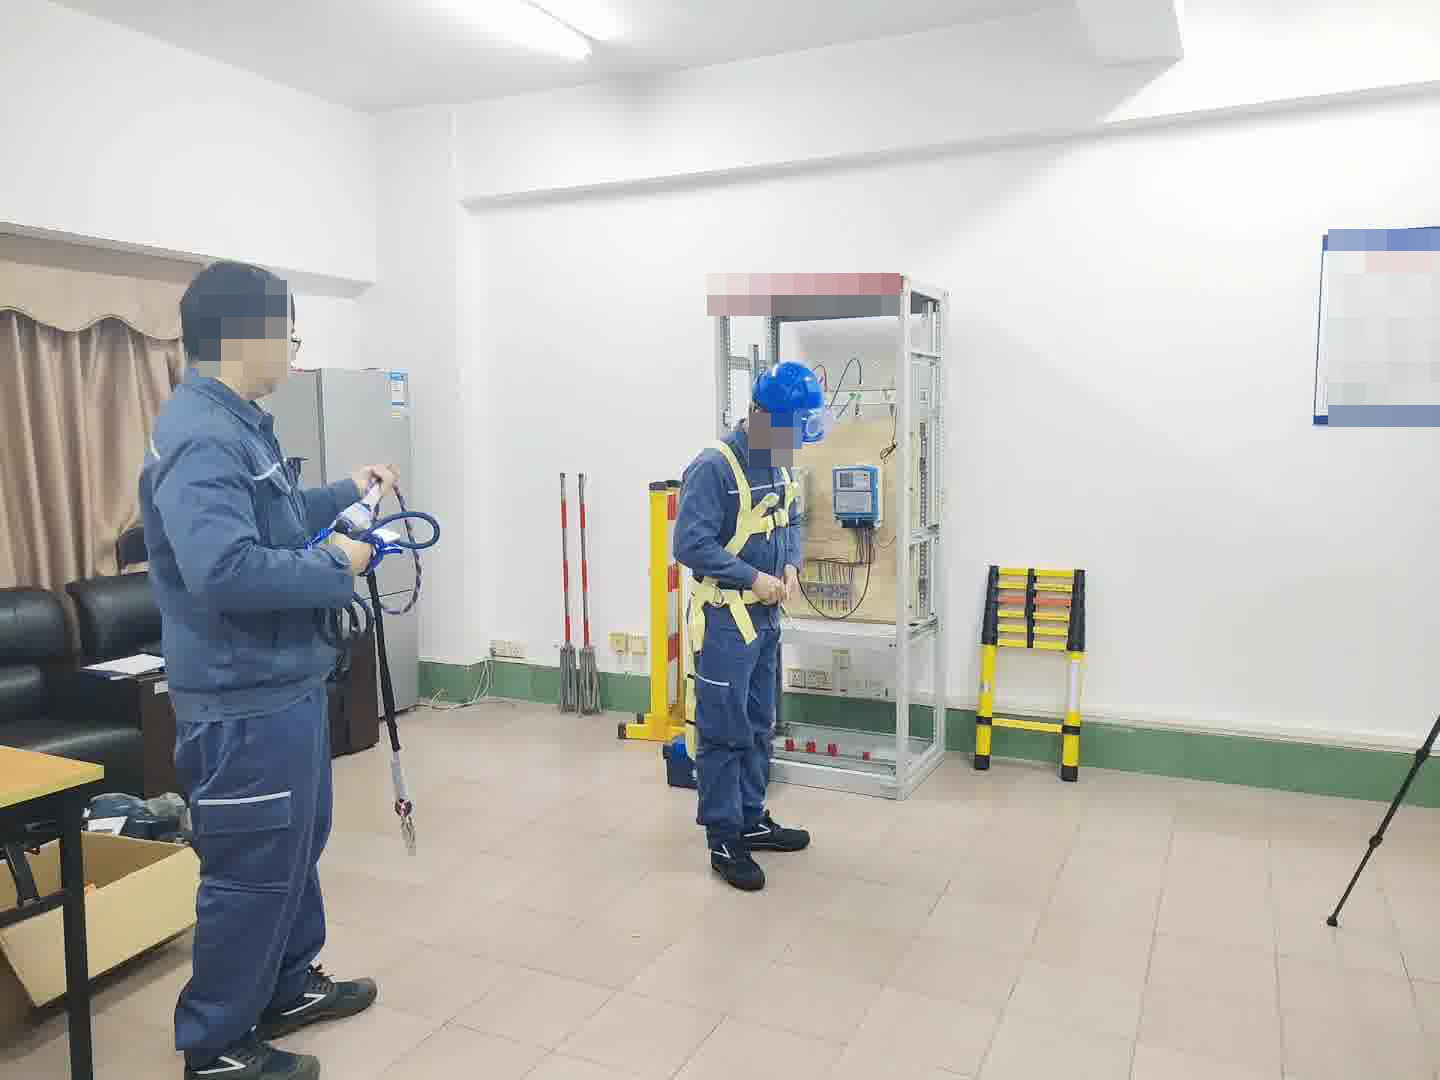downsuit: (171, 724, 338, 1058), (693, 627, 785, 837)
halt: (750, 360, 830, 448)
hand: (328, 532, 371, 583), (344, 468, 398, 502), (751, 566, 785, 616)
inear: (741, 409, 775, 450)
noear: (230, 325, 273, 375)
person: (126, 251, 433, 1079), (672, 359, 838, 881)
safebelt: (677, 431, 822, 769)
unhalt: (175, 260, 305, 393)
upsuit: (130, 372, 410, 705), (674, 428, 793, 598)
